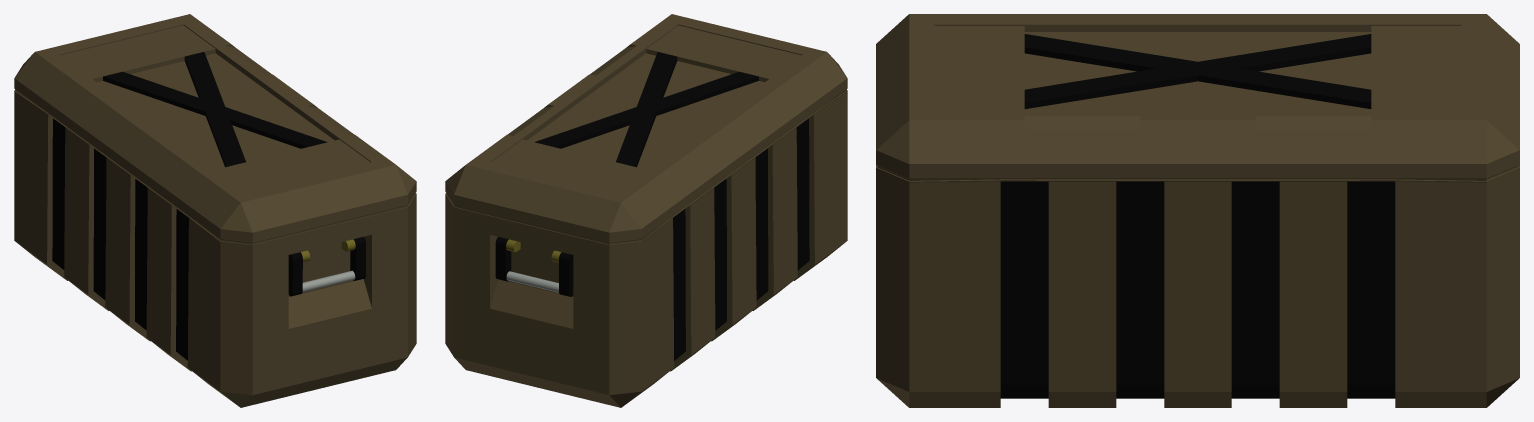
3 views of the same model, side by side, from view 1: azimuth 30°, elevation 25°; view 2: azimuth 150°, elevation 25°; view 3: azimuth 270°, elevation 25° (orthographic). The views are drawn at different scales.
Visible parts, largest first — view 1: Cube, Cylinder.002, Cylinder.004, Cylinder; view 2: Cube, Cylinder.005, Cylinder.007, Cylinder.009; view 3: Cube.
Boxes of the visible parts, x1,y1,x2,y2 form: Cube: (14, 14, 416, 407); Cylinder.002: (288, 252, 302, 296); Cylinder.004: (350, 236, 365, 280); Cylinder: (302, 270, 355, 292); Cube: (445, 14, 847, 407); Cylinder.005: (559, 252, 573, 296); Cylinder.007: (495, 237, 511, 281); Cylinder.009: (506, 271, 558, 292); Cube: (876, 14, 1519, 407).
Size of the model in its own units: 200 by 200 by 405.
